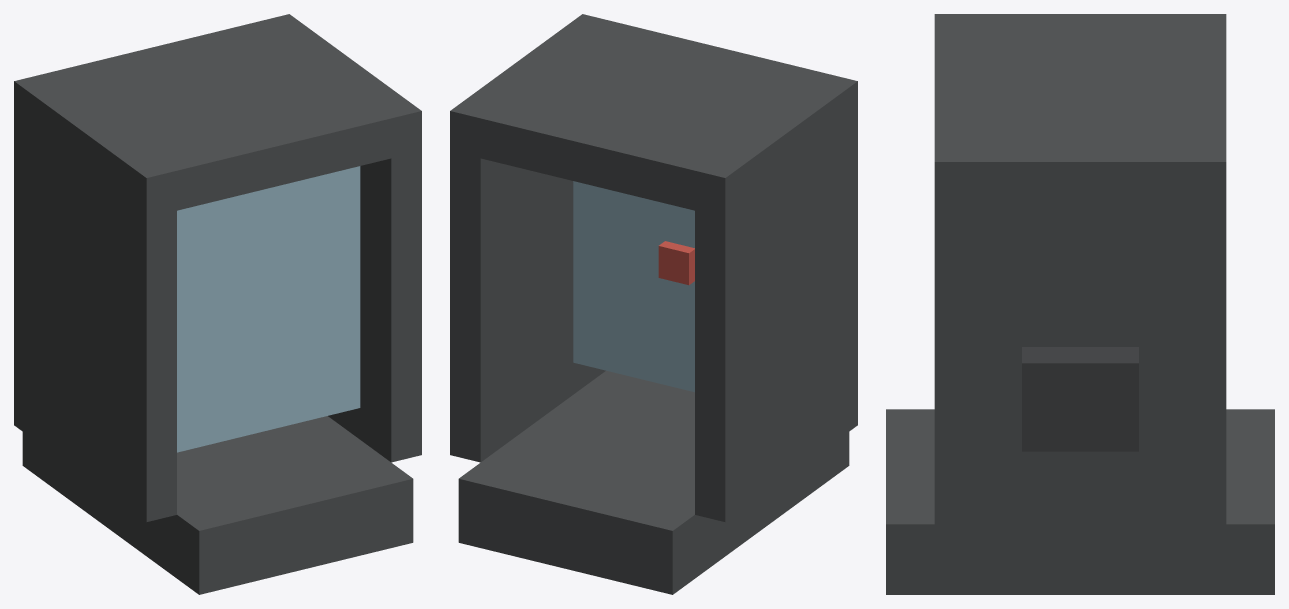
File: red_dot_sight.glb
3 renders of one model, left to right at view 1: azimuth 30°, elevation 25°; view 2: azimuth 150°, elevation 25°; view 3: azimuth 270°, elevation 25°, orthographic. The views are drawn at different scales.
Visible parts, largest first — view 1: red_dot_sight; view 2: red_dot_sight; view 3: red_dot_sight.
Part boxes in pixels (x1,y1,x2,y2): red_dot_sight: (14, 14, 421, 594); red_dot_sight: (450, 14, 857, 594); red_dot_sight: (886, 14, 1274, 594).
Bounding box in the file's own units: 0.04 × 0.051 × 0.04.
